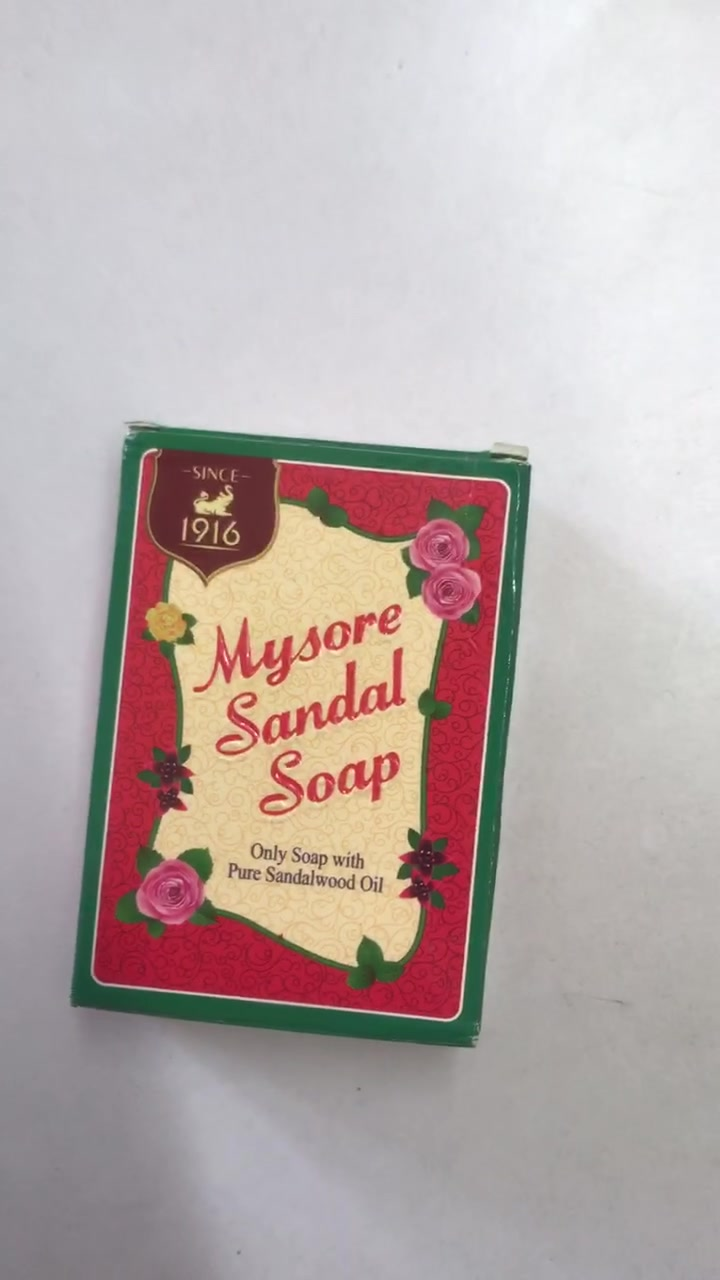mysore sandal soap: (71, 427, 531, 1045)
